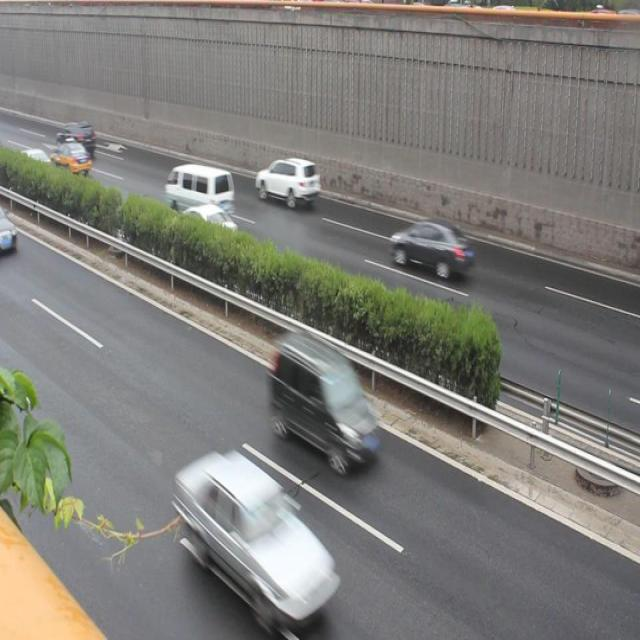car: (179, 452, 339, 608), (270, 331, 380, 469), (388, 216, 471, 278), (164, 201, 236, 256), (255, 155, 321, 209), (50, 142, 94, 177)
truck: (163, 163, 236, 217)
